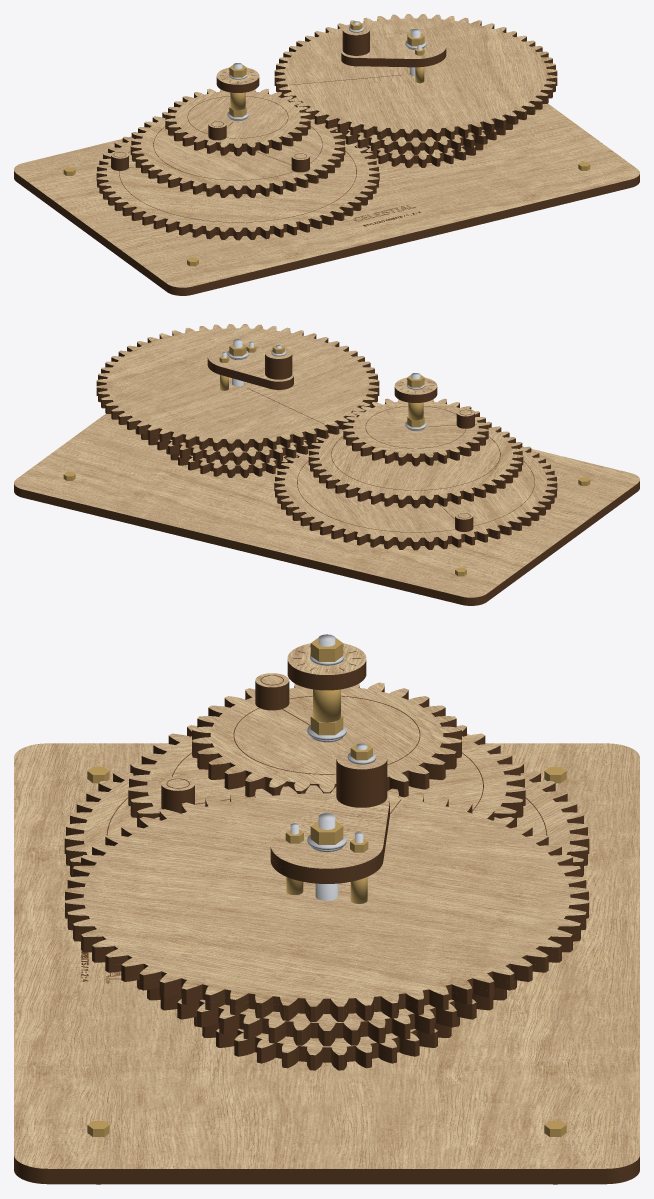
The model's file is celestial.glb.
3 views of the same model, one above another, from view 1: azimuth 30°, elevation 25°; view 2: azimuth 150°, elevation 25°; view 3: azimuth 270°, elevation 25° (orthographic). The views are drawn at different scales.
Parts seen in each view (by area): view 1: body13, body11, body1, body5, body9, body12, body42, body0, body7, body10, body4, body3 (+5 smaller); view 2: body13, body11, body1, body5, body9, body12, body42, body0, body7, body10, body4, body3 (+5 smaller); view 3: body13, body11, body9, body5, body1, body12, body42, body7, body10, body3, body6, body2 (+5 smaller).
Part boxes in pixels (bbox=[...]): body13: bbox=[14, 104, 639, 291]; body11: bbox=[274, 14, 557, 137]; body1: bbox=[96, 132, 379, 236]; body5: bbox=[130, 111, 345, 194]; body9: bbox=[165, 88, 310, 152]; body12: bbox=[14, 175, 639, 295]; body42: bbox=[341, 33, 446, 63]; body0: bbox=[96, 137, 379, 240]; body7: bbox=[335, 119, 517, 150]; body10: bbox=[274, 32, 557, 141]; body4: bbox=[130, 117, 345, 198]; body3: bbox=[356, 139, 487, 163]; body13: bbox=[14, 414, 639, 601]; body11: bbox=[96, 324, 379, 447]; body1: bbox=[274, 442, 557, 546]; body5: bbox=[308, 421, 523, 504]; body9: bbox=[343, 398, 488, 462]; body12: bbox=[14, 485, 639, 605]; body42: bbox=[207, 343, 293, 385]; body0: bbox=[274, 447, 557, 550]; body7: bbox=[136, 429, 318, 460]; body10: bbox=[96, 342, 379, 451]; body4: bbox=[308, 427, 523, 508]; body3: bbox=[166, 449, 297, 473]; body13: bbox=[14, 743, 639, 1176]; body11: bbox=[65, 785, 588, 1014]; body9: bbox=[192, 682, 461, 795]; body5: bbox=[128, 725, 525, 820]; body1: bbox=[64, 762, 589, 869]; body12: bbox=[14, 1163, 639, 1184]; body42: bbox=[270, 794, 389, 876]; body7: bbox=[138, 980, 515, 1038]; body10: bbox=[65, 806, 588, 1021]; body3: bbox=[194, 1016, 459, 1062]; body6: bbox=[137, 980, 516, 1046]; body2: bbox=[194, 1017, 459, 1070].
Size of the model in its own units: 0.357 by 0.111 by 0.222.
Materials: 5 (1 with a texture image).
